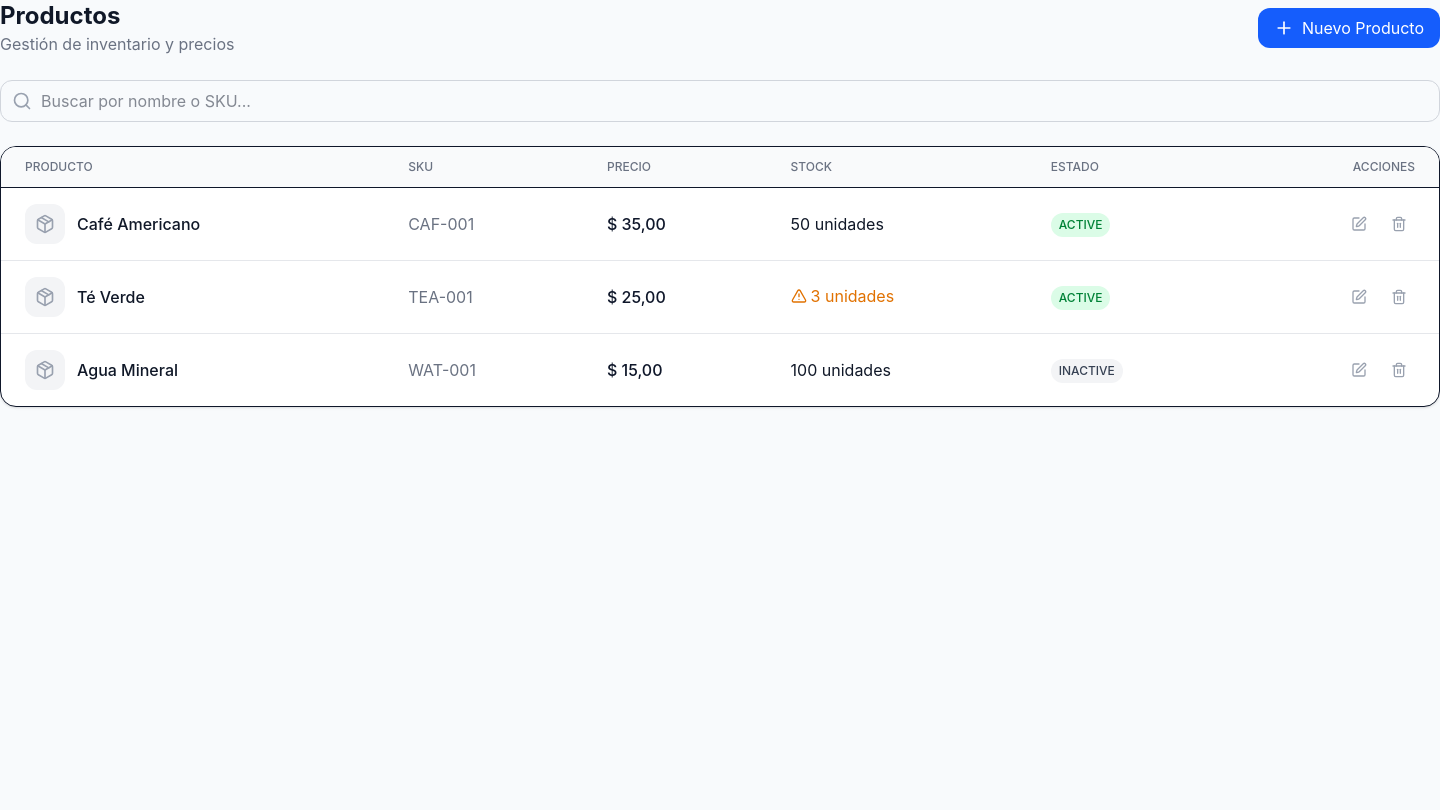
it: ProductsPage › Create Product Modal › should open modal when clicking "Nuevo Producto"
Click the button "Nuevo Producto". click: (1349, 28)
box: [1258, 8, 1439, 48]
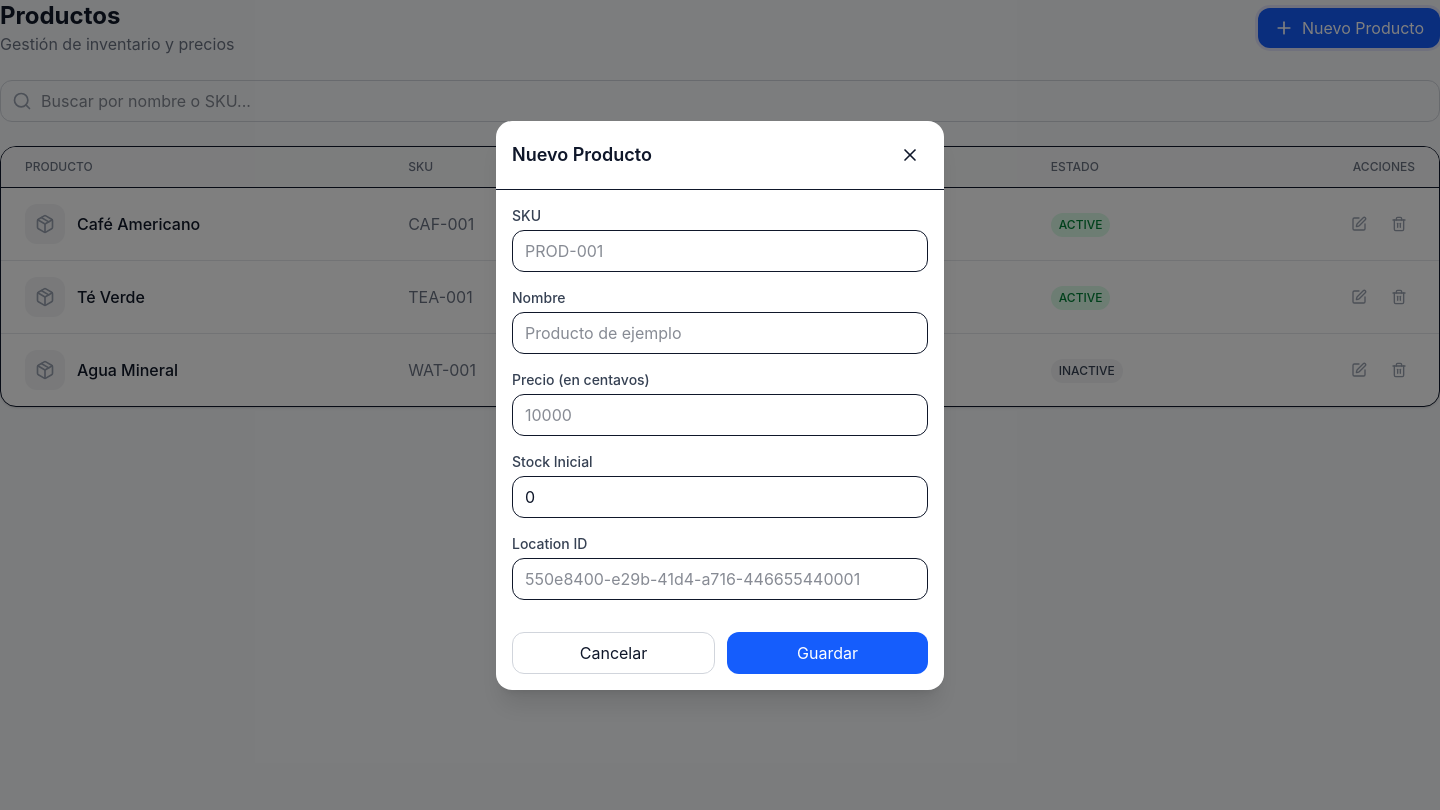
Expected: the dialog is shown
